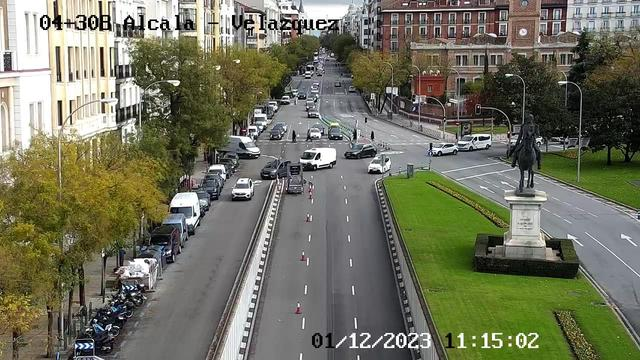car: (150, 227, 182, 263), (260, 160, 299, 180), (344, 143, 377, 159), (231, 178, 254, 200), (198, 179, 220, 200), (427, 143, 458, 157), (367, 156, 391, 174)
motorcycle: (78, 330, 114, 354), (84, 318, 120, 337)
truck: (169, 192, 200, 235), (215, 136, 260, 158), (161, 214, 188, 248), (299, 148, 336, 171), (457, 134, 491, 152), (207, 165, 226, 182)
